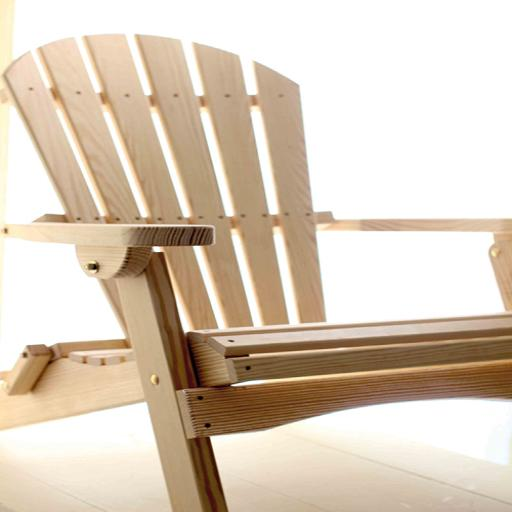chair: (0, 28, 512, 482)
